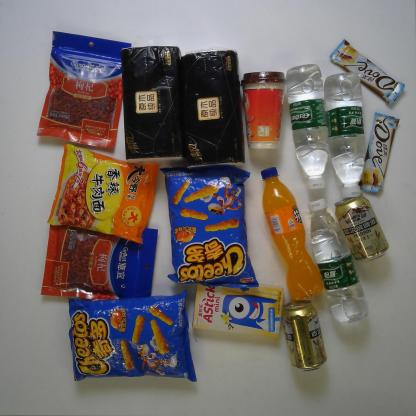Alcohol: (272, 292, 329, 374), (332, 192, 391, 264)
Chocolate: (327, 39, 407, 108), (358, 111, 401, 198)
Dessert: (188, 279, 285, 341)
Dried Fruit: (38, 214, 163, 310), (36, 29, 134, 151)
Drink: (257, 162, 328, 304), (304, 195, 370, 326), (282, 57, 334, 192), (322, 66, 371, 201)
Instant Drink: (239, 68, 289, 152)
Instant Noodles: (46, 140, 162, 246)
Puffed Food: (66, 288, 202, 386), (159, 159, 260, 289)
Tissue: (178, 41, 249, 172), (119, 37, 187, 166)
